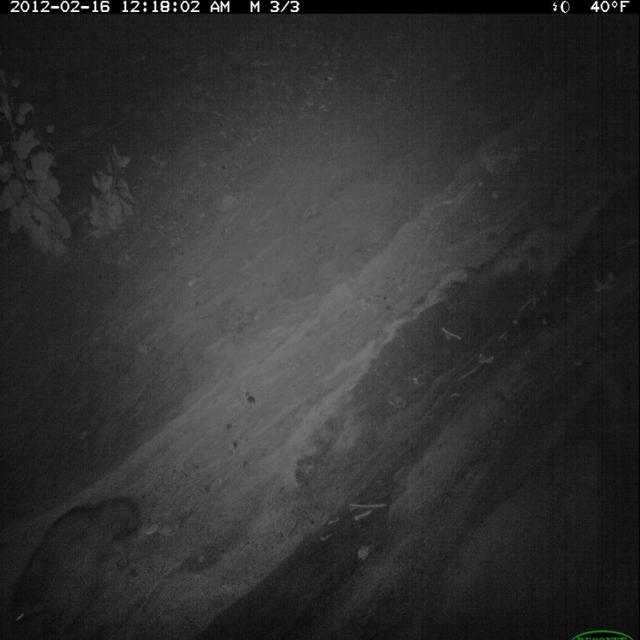raccoon: (6, 492, 146, 640)
